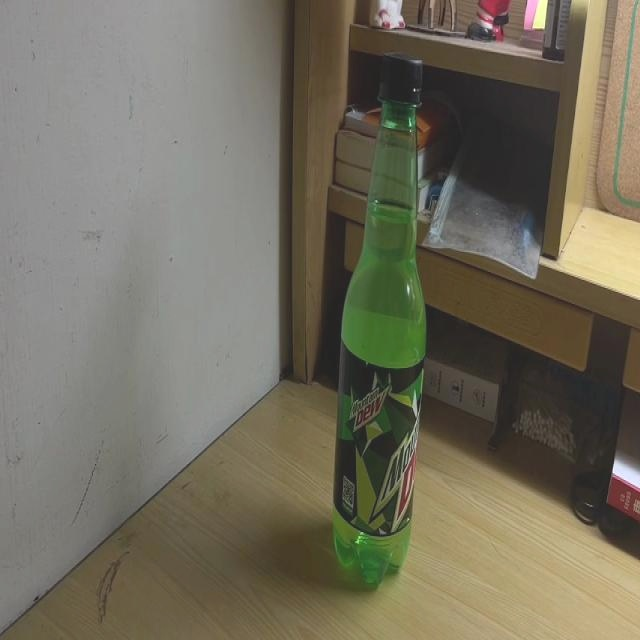Mountain-Dew: (333, 55, 426, 586)
